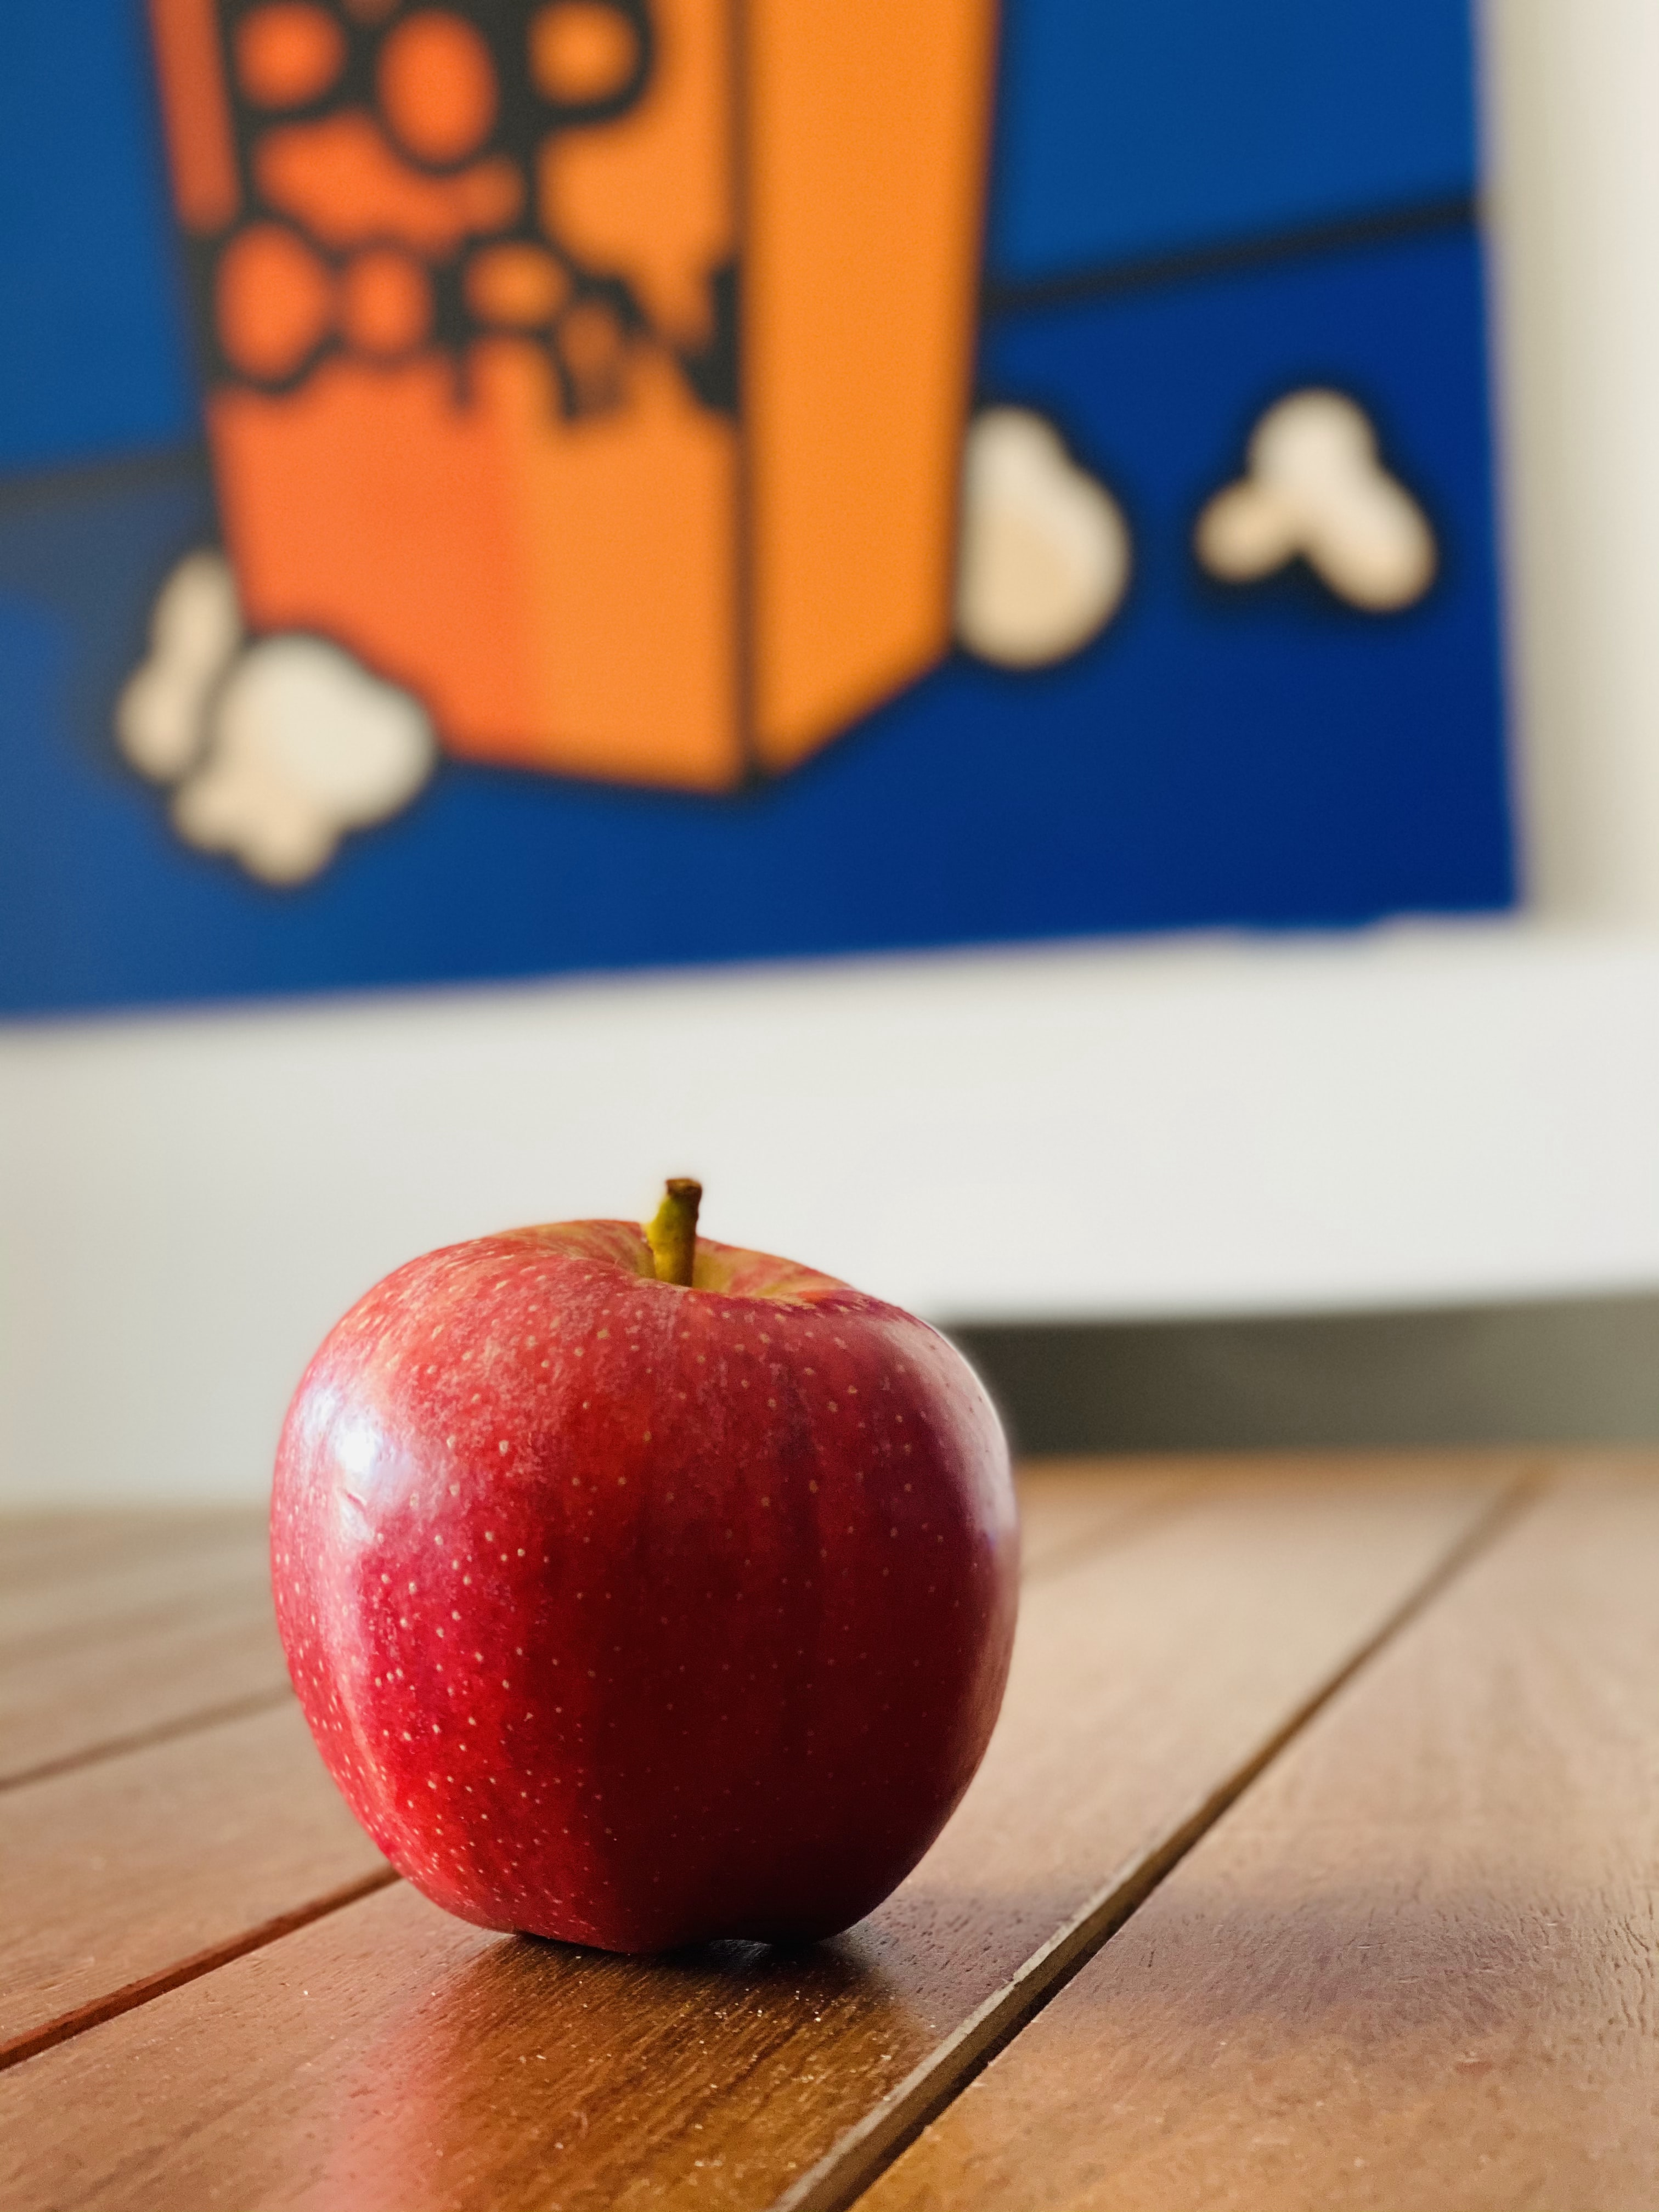Apple: (267, 1219, 1023, 1954)
